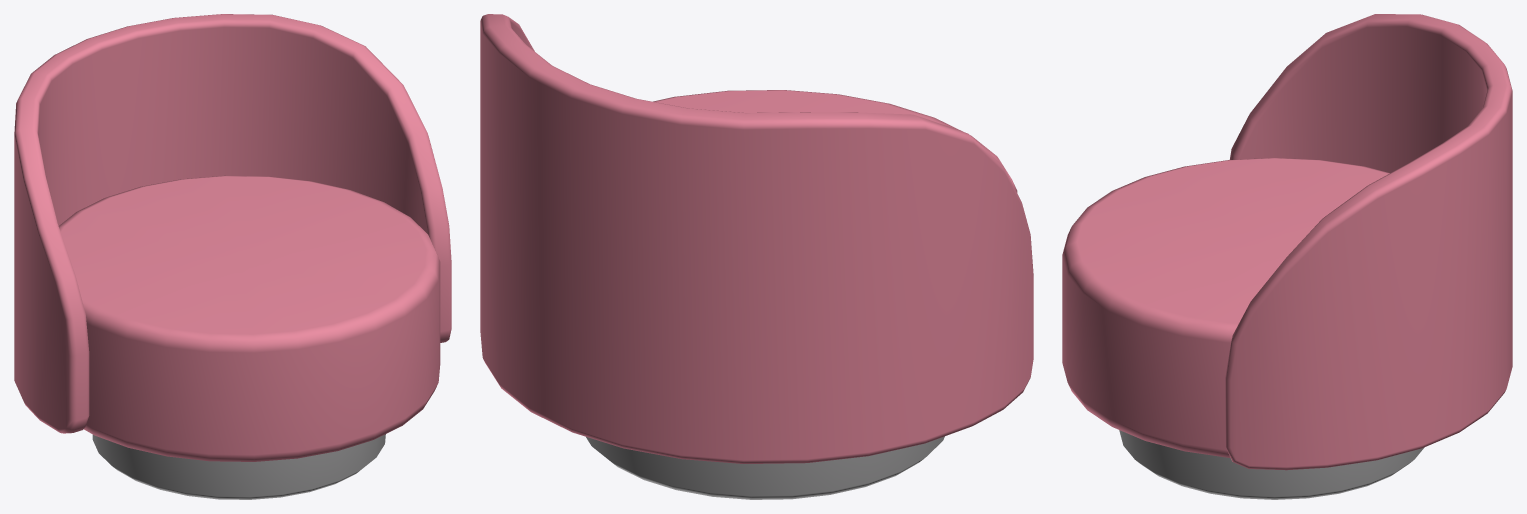
File: armChair.glb
3 views of the same model, side by side, from view 1: azimuth 30°, elevation 25°; view 2: azimuth 150°, elevation 25°; view 3: azimuth 270°, elevation 25° (orthographic). The views are drawn at different scales.
Visible parts, largest first — view 1: SM_Armchair_2; view 2: SM_Armchair_2; view 3: SM_Armchair_2.
Part boxes in pixels (x1,y1,x2,y2): SM_Armchair_2: [14, 14, 451, 499]; SM_Armchair_2: [480, 14, 1033, 499]; SM_Armchair_2: [1062, 14, 1512, 499].
Bounding box in the file's own units: 1.2 × 0.9788 × 1.14.
1 material, 1 textured.
